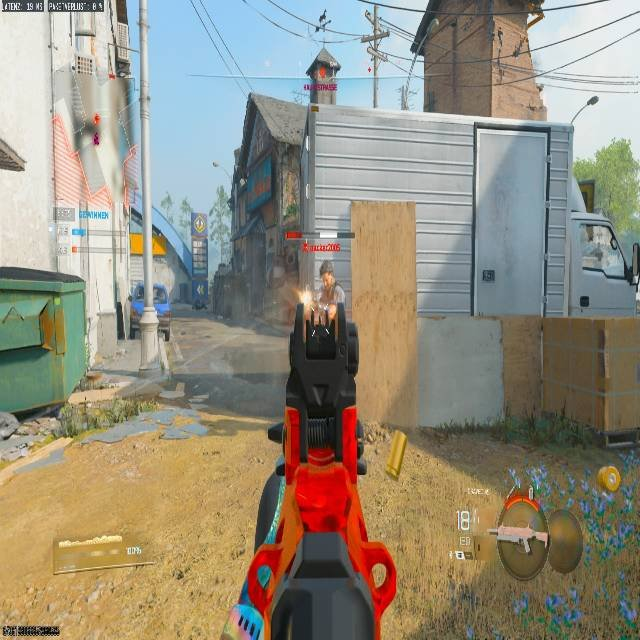head: (319, 260, 335, 285)
player: (313, 261, 342, 334)
